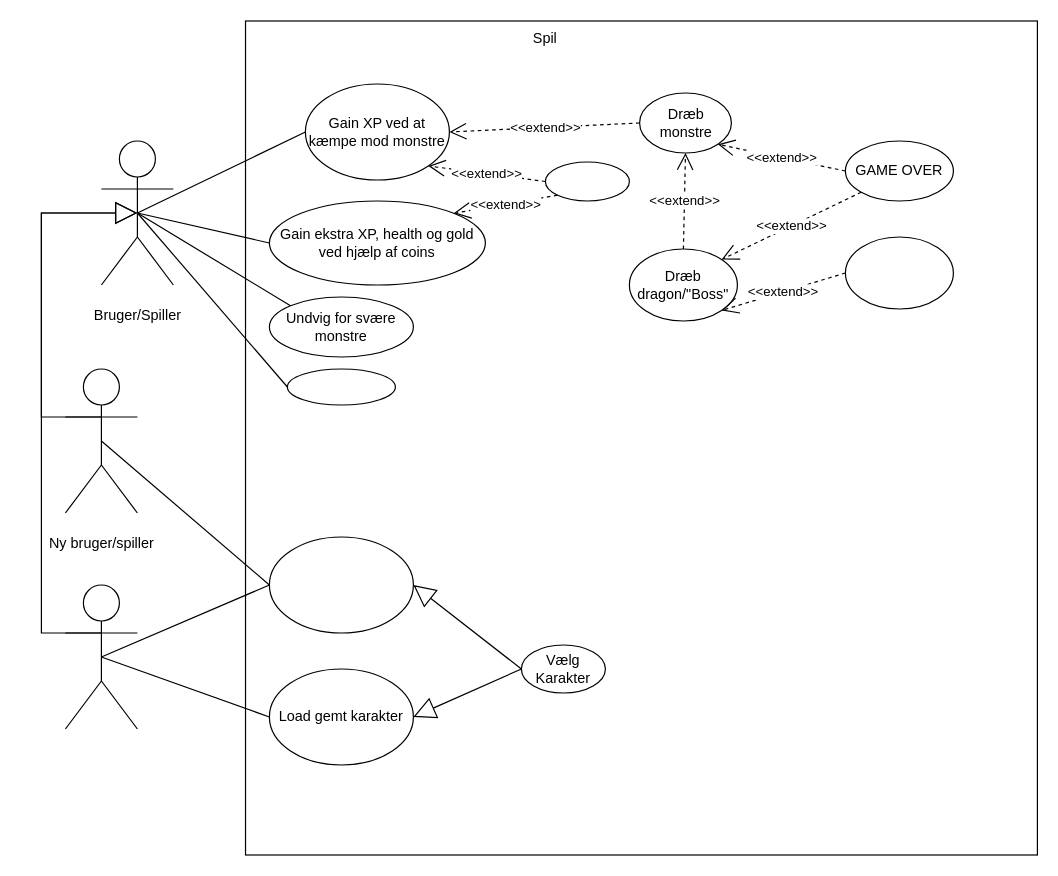
Some shapes in this 1058 by 876 pixel diagram are drawn without their labels. Here are the shapes that lost their labels. From the top down, the box of each, then its label:
(544, 161, 629, 201): Stig i Lvl
(844, 236, 953, 309): WIN
(286, 368, 395, 405): Gem karakter
(268, 536, 413, 633): Start ny karakter
(64, 584, 137, 729): Tilbagevendende bruger/spiller
